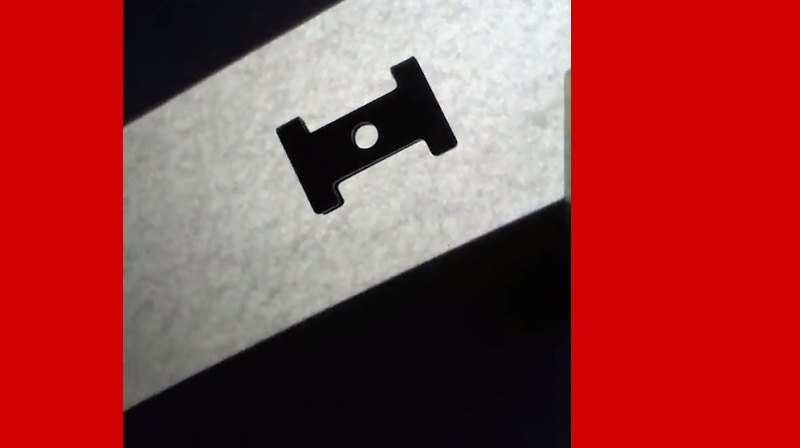O002: (272, 52, 461, 215)
